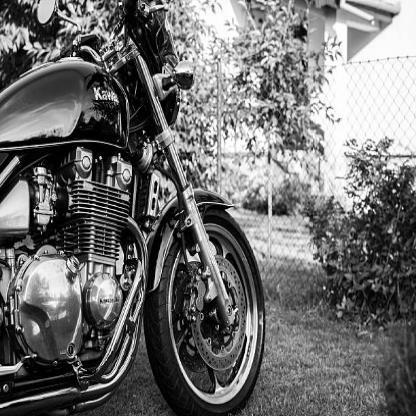Motorcycle: (0, 1, 270, 415)
